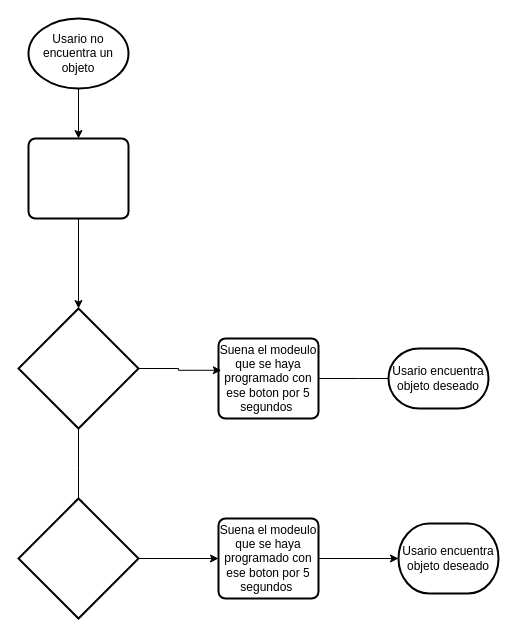
Some shapes in this 516 by 636 pixel diagram are drawn without their labels. The shapes that lost their labels are listed below. From the top down, each one's box as (x1, y1, x2, y2) in pixels, then its label:
(27, 137, 129, 219): Usario prender el modulo que contiene los botones
(17, 307, 139, 429): Usario presiona el boton 1
(17, 497, 139, 619): Usario presiona el boton 2
